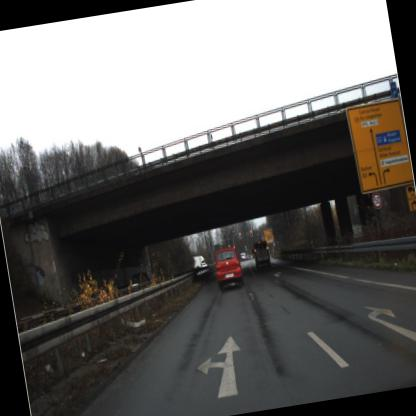prohibitory: (370, 191, 384, 212)
